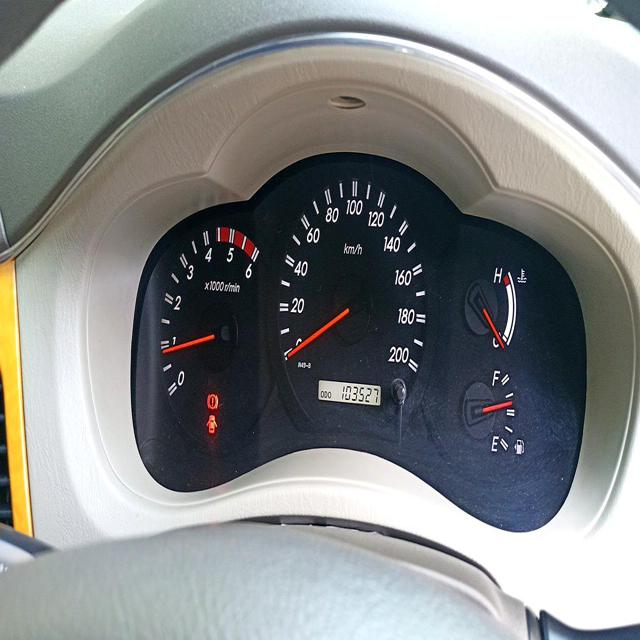odometer: (342, 382, 380, 405)
